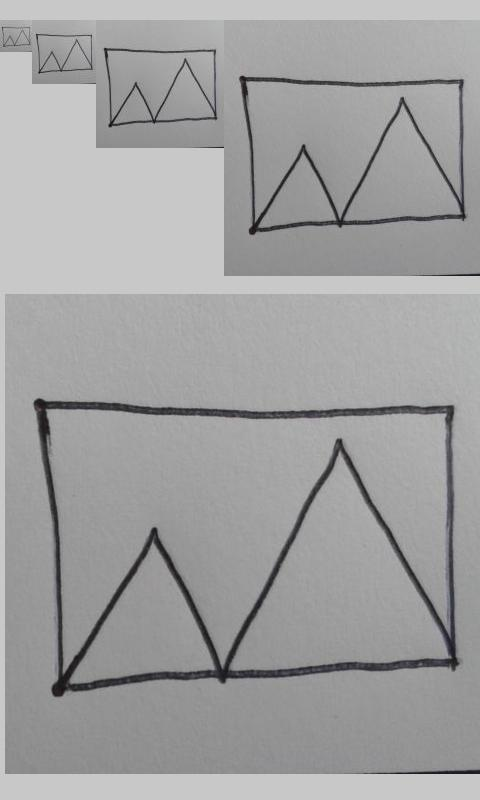image_view: (29, 398, 459, 696), (237, 74, 467, 234), (102, 47, 218, 127), (35, 33, 94, 74), (1, 26, 31, 47)
